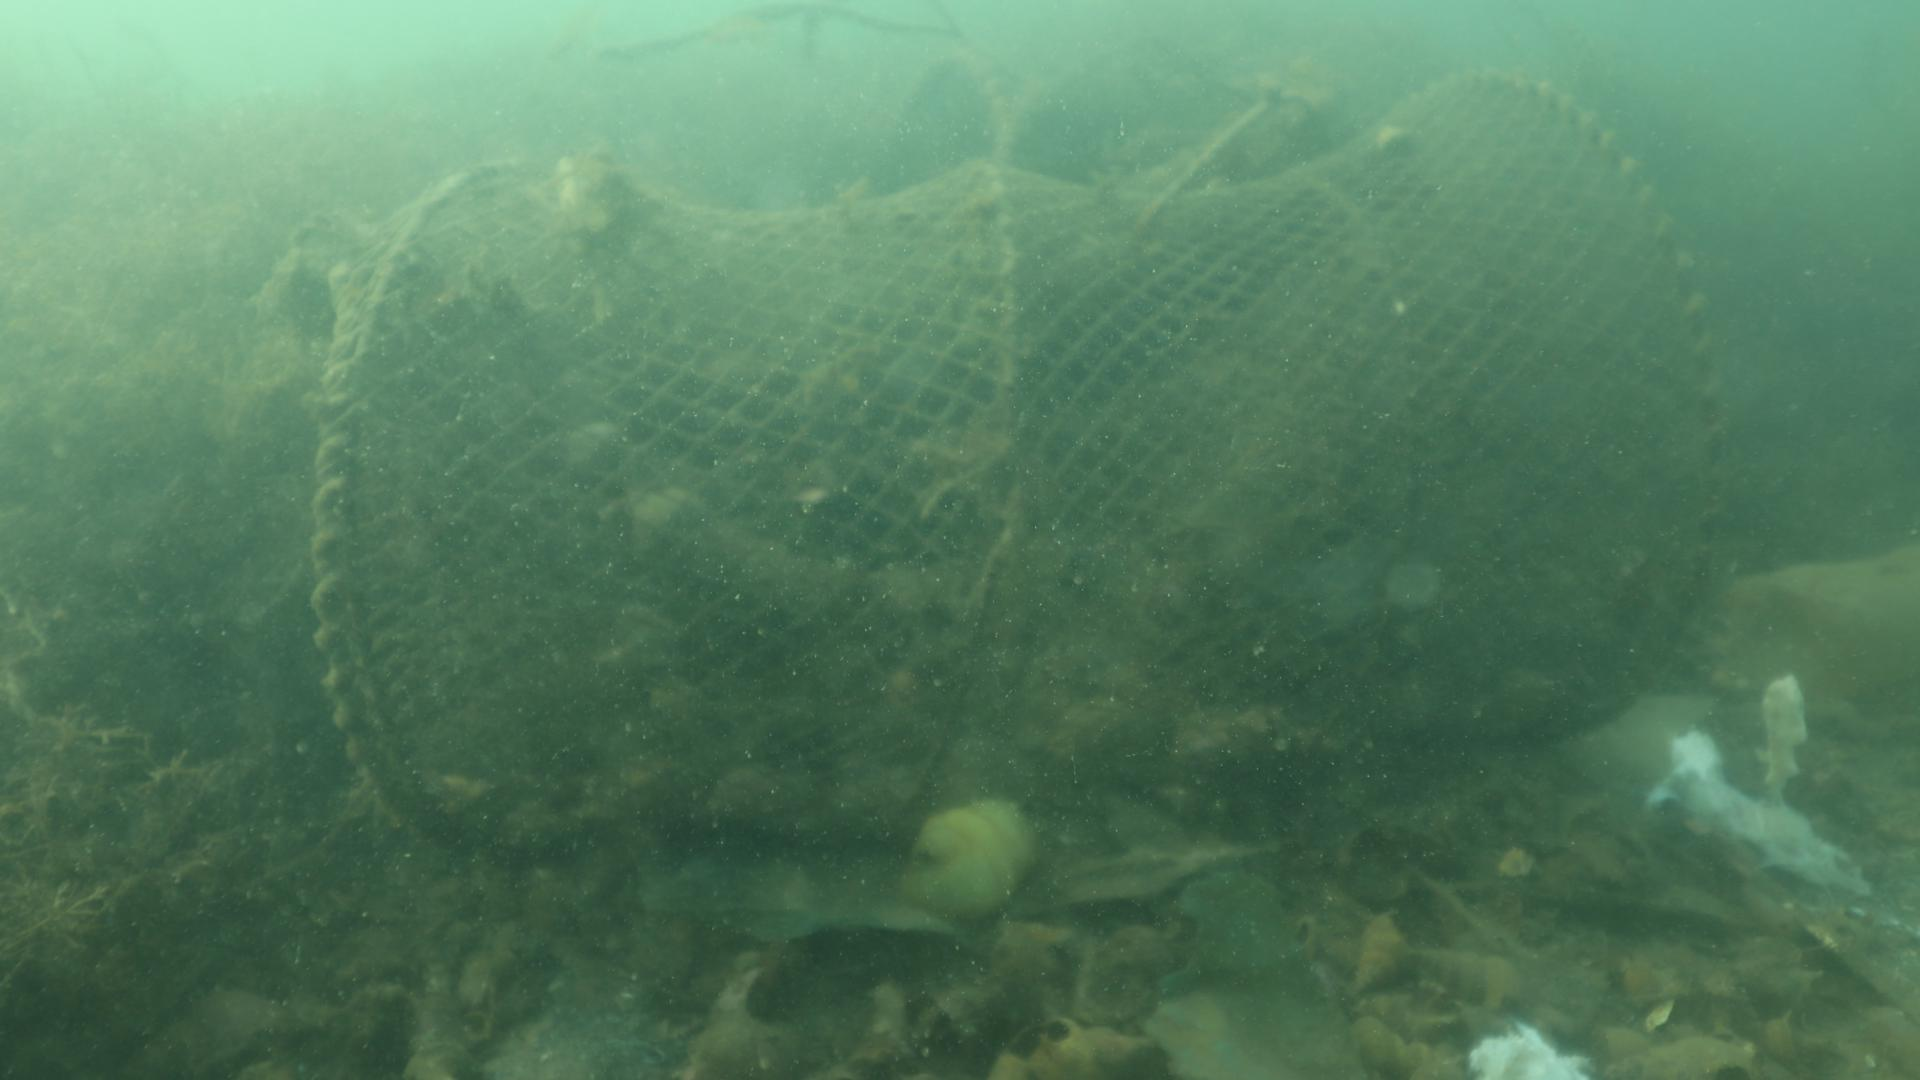spring fish trap: (305, 66, 1729, 857)
